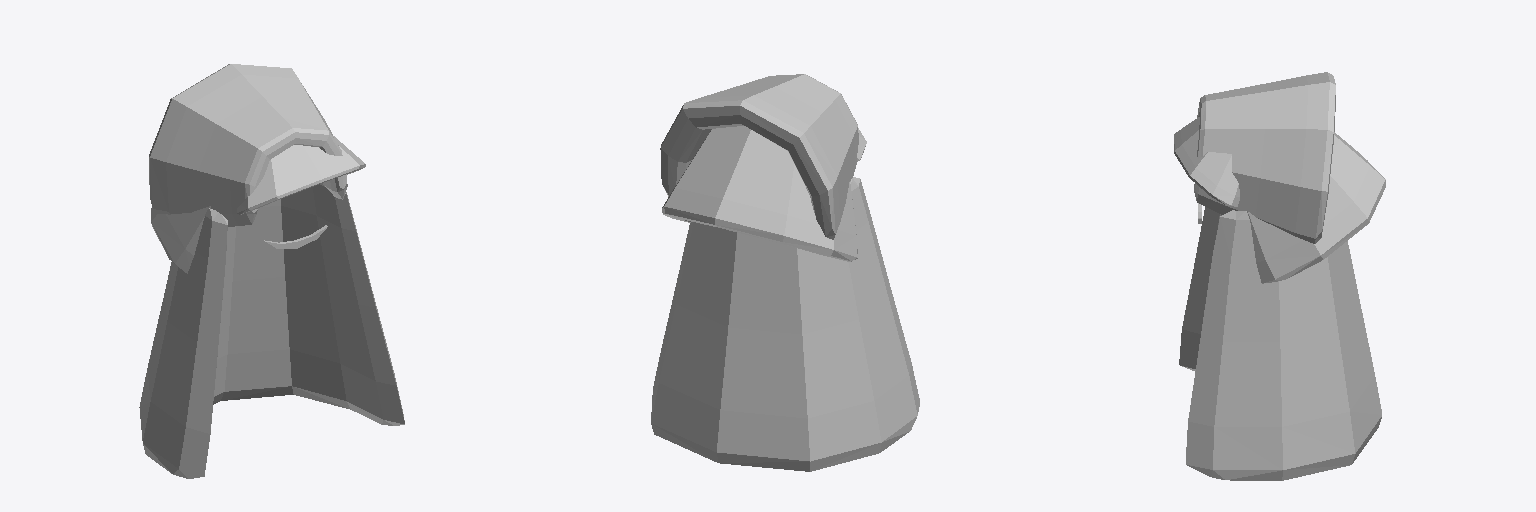
The model's file is нютя(b).obj.
3 views of the same model, side by side, from view 1: azimuth 30°, elevation 25°; view 2: azimuth 150°, elevation 25°; view 3: azimuth 270°, elevation 25° (orthographic).
Parts seen in each view (by area): view 1: Cube.006; view 2: Cube.006; view 3: Cube.006.
Boxes of the visible parts, box(x1,y1,x2,y2) form: Cube.006: box(139, 64, 404, 478); Cube.006: box(651, 74, 919, 471); Cube.006: box(1174, 72, 1385, 480).
Bounding box in the file's own units: 0.994 × 1.46 × 0.8075.